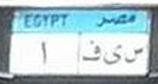1: (38, 39, 48, 67)
faa: (81, 39, 101, 66)
seen: (125, 44, 144, 68)
yaa: (102, 39, 122, 68)
